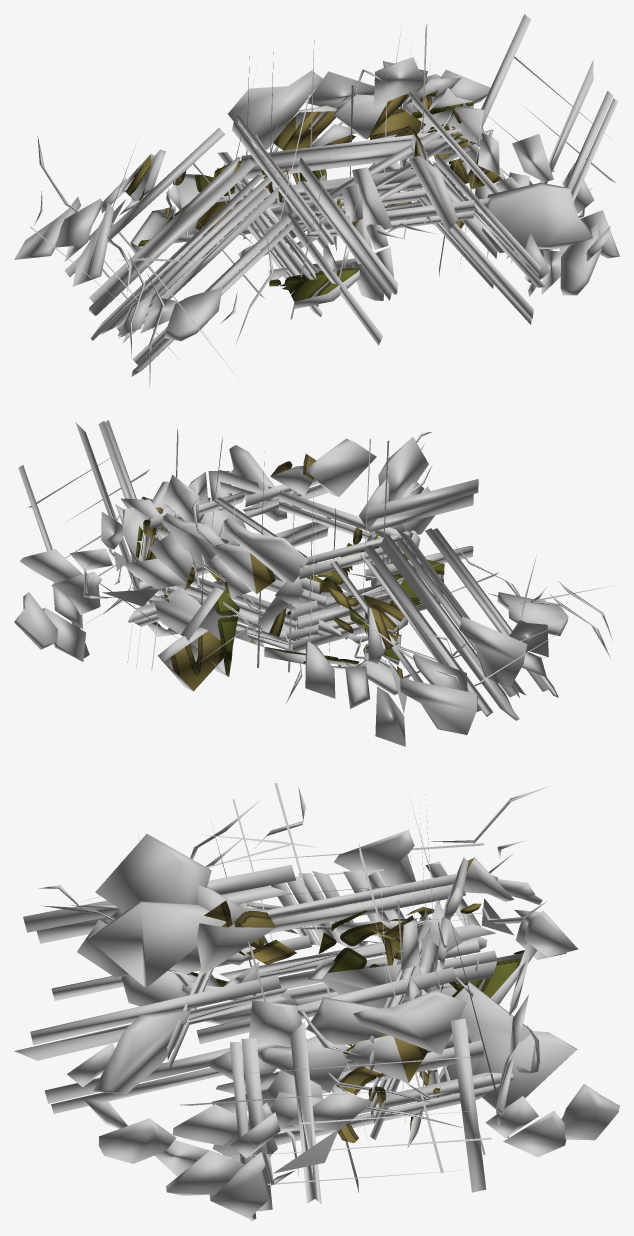
File: trashPile.FBX
3 views of the same model, one above another, from view 1: azimuth 30°, elevation 25°; view 2: azimuth 150°, elevation 25°; view 3: azimuth 270°, elevation 25° (orthographic). The views are drawn at different scales.
Visible parts, largest first — view 1: Trash; view 2: Trash; view 3: Trash.
Part boxes in pixels (bbox=[...]): Trash: bbox=[14, 14, 619, 387]; Trash: bbox=[14, 420, 613, 746]; Trash: bbox=[14, 783, 619, 1221].
Bounding box in the file's own units: 2358 × 1152 × 1929.
